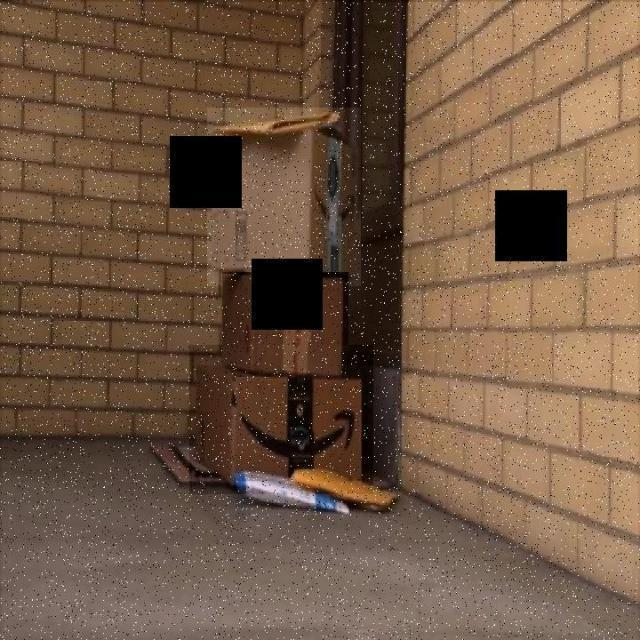box: (190, 345, 373, 495), (207, 108, 361, 286), (222, 272, 348, 370)
